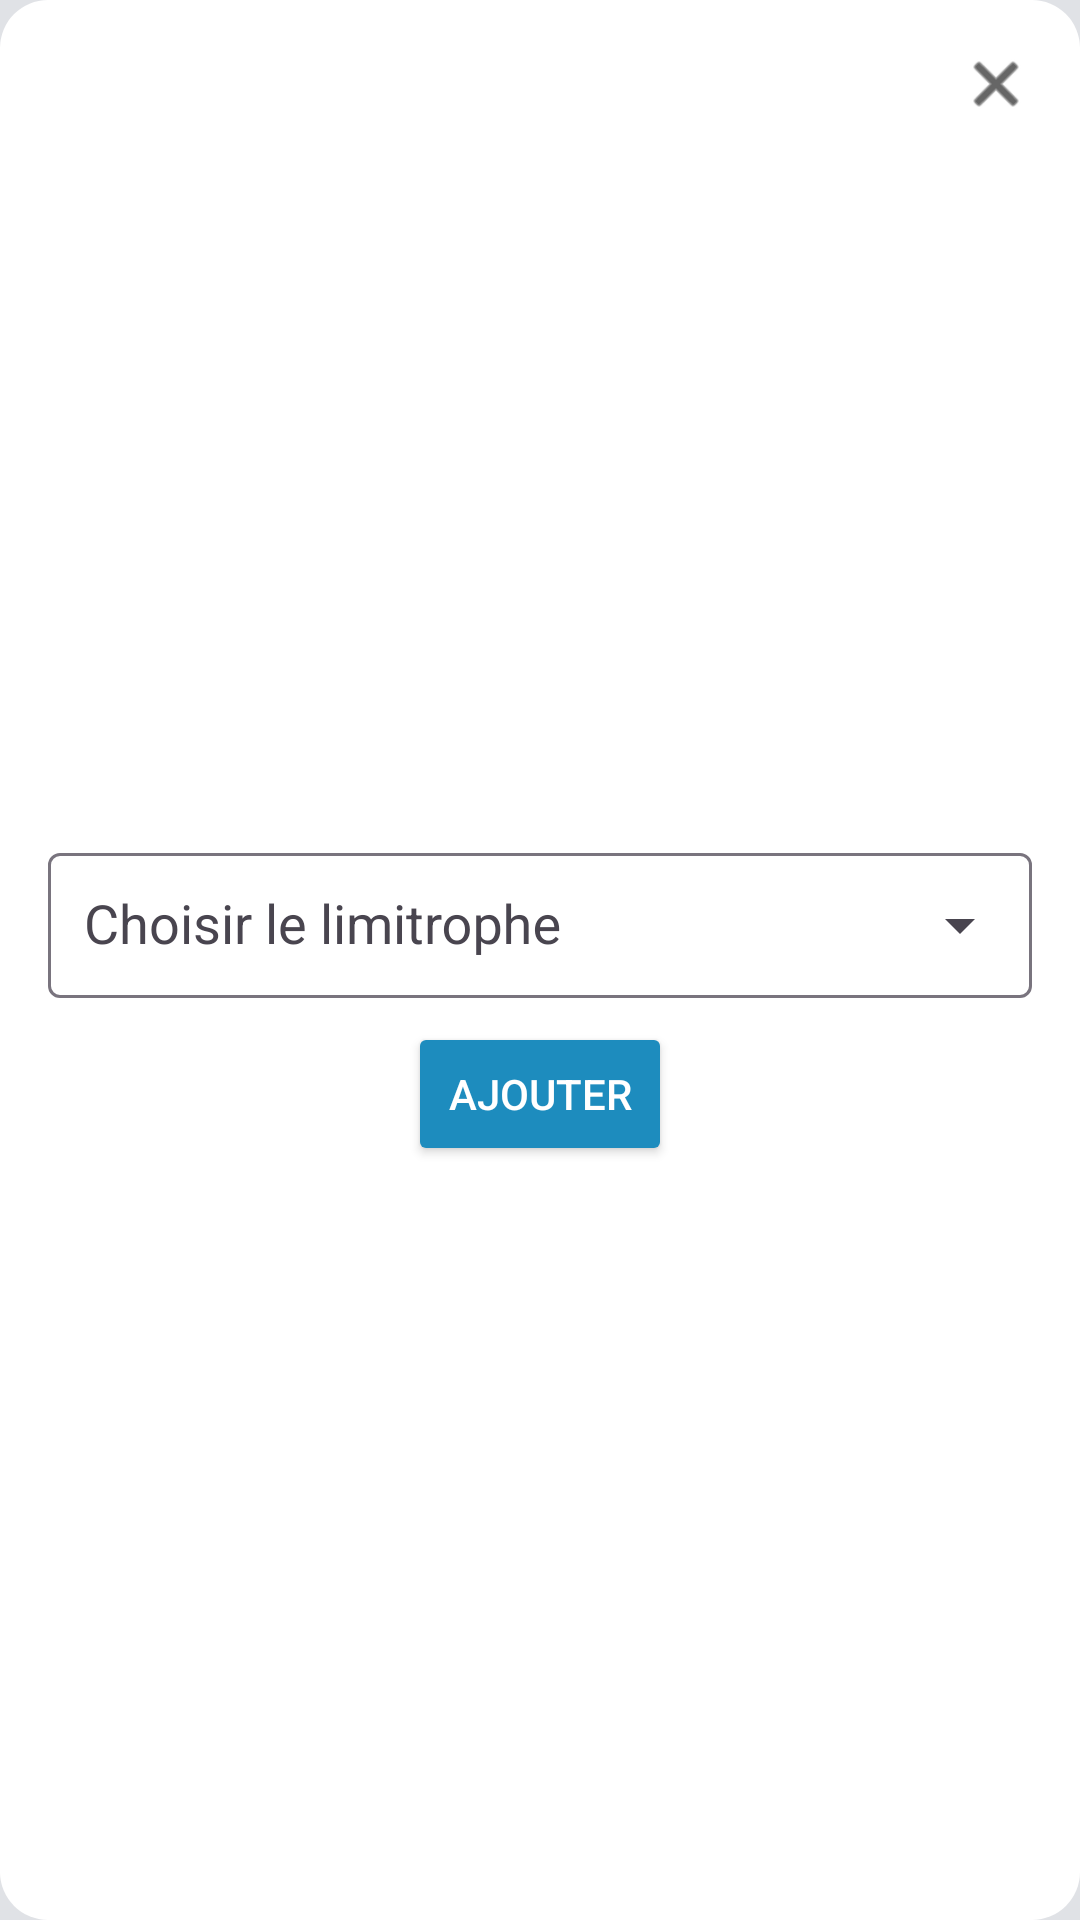

Icons on this 1080*1920 Android screen, each with its box as (x1, y1, x2, y2):
close clear cancel: (973, 61, 1019, 107)
